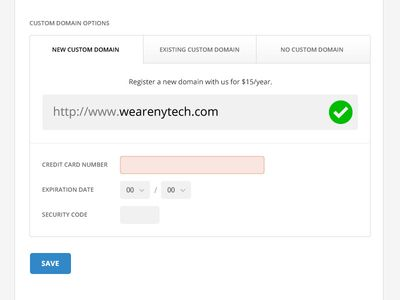error_field: (120, 156, 265, 174)
